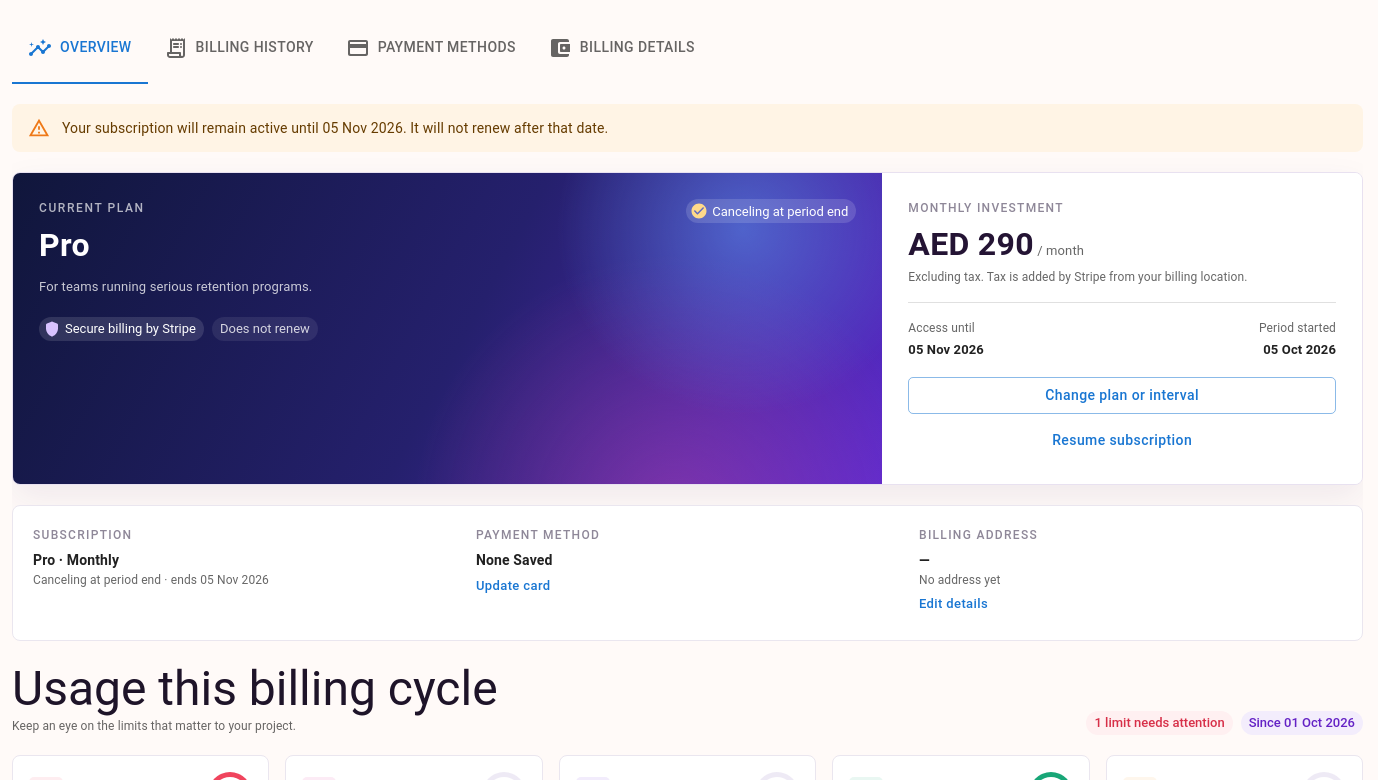
Scenario: BillingSection › resumes a subscription that is set to cancel
Click the button "Resume subscription" at (1122, 440), box [908, 422, 1336, 458]
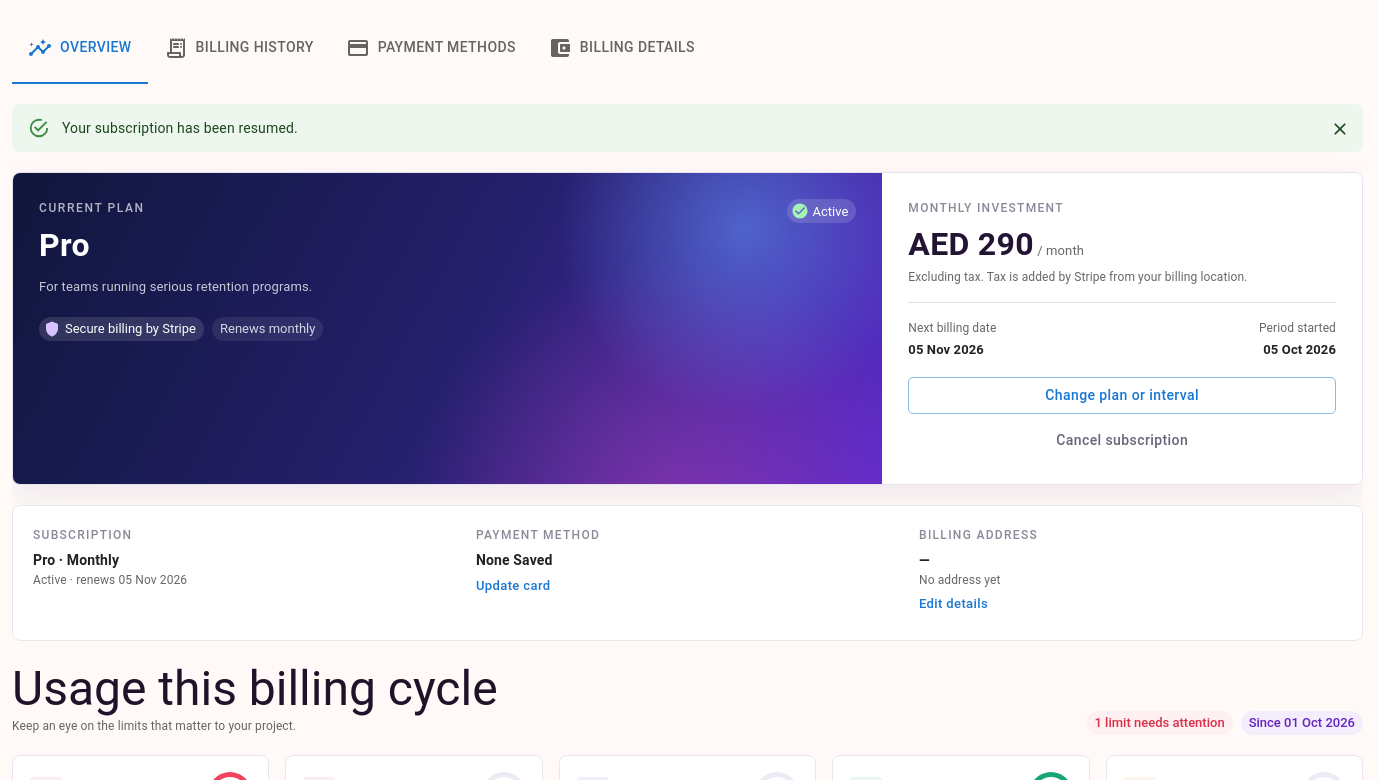
Expected: the text "Your subscription has been resumed." is shown, [62, 120, 298, 136]
Expected: the button "Cancel subscription" is shown, [908, 422, 1336, 458]
